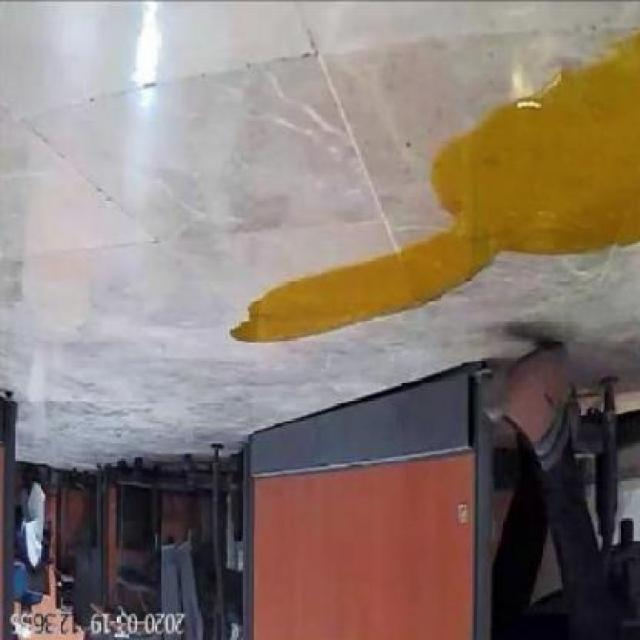spillage: (235, 28, 640, 341)
